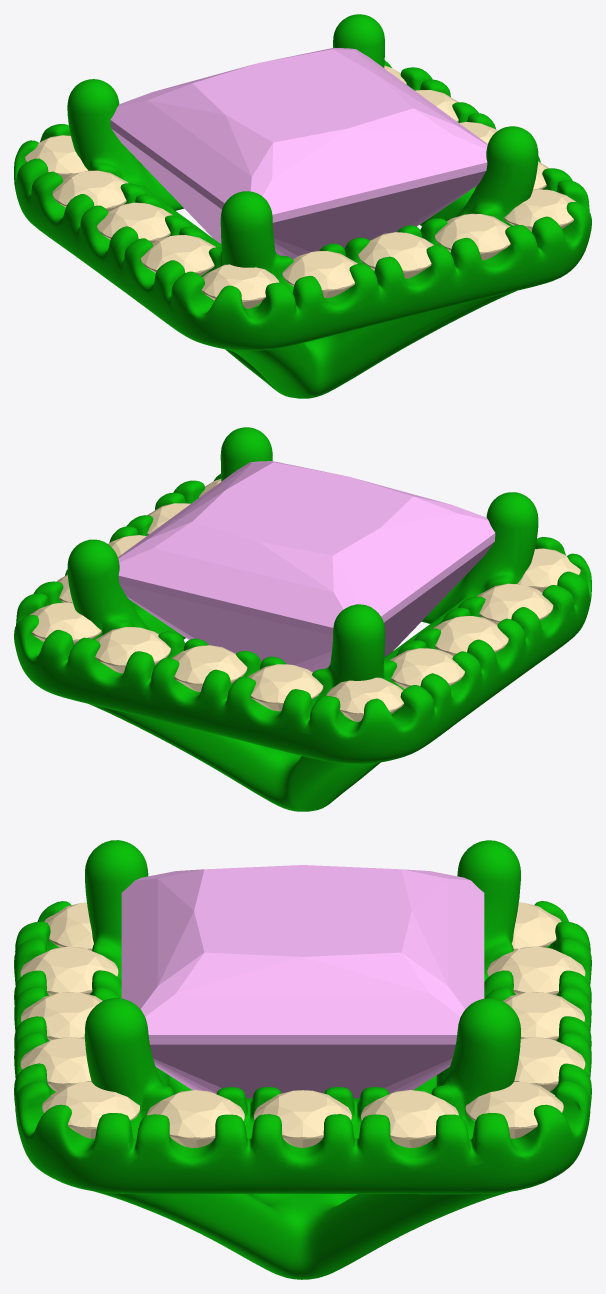
3 views of the same model, one above another, from view 1: azimuth 30°, elevation 25°; view 2: azimuth 150°, elevation 25°; view 3: azimuth 270°, elevation 25° (orthographic). The views are drawn at different scales.
Visible parts, largest first — view 1: Metal01, Diamond_Princess, Diamond_Round.005, Diamond_Round.003, Diamond_Round.004, Diamond_Round.007, Diamond_Round.009, Diamond_Round.006, Diamond_Round.008, Diamond_Round.002, Diamond_Round.010, Diamond_Round.015; view 2: Metal01, Diamond_Princess, Diamond_Round.011, Diamond_Round.013, Diamond_Round.012, Diamond_Round.009, Diamond_Round.007, Diamond_Round.010, Diamond_Round.008, Diamond_Round.014, Diamond_Round.006, Diamond_Round.001; view 3: Metal01, Diamond_Princess, Diamond_Round.001, Diamond_Round.015, Diamond_Round, Diamond_Round.011, Diamond_Round.005, Diamond_Round.014, Diamond_Round.002, Diamond_Round.013, Diamond_Round.003, Diamond_Round.012 (+3 smaller).
Boxes of the visible parts, x1,y1,x2,y2 form: Metal01: [14, 14, 591, 398]; Diamond_Princess: [110, 47, 487, 259]; Diamond_Round.005: [282, 251, 357, 297]; Diamond_Round.003: [435, 213, 510, 260]; Diamond_Round.004: [358, 232, 433, 278]; Diamond_Round.007: [141, 235, 215, 275]; Diamond_Round.009: [52, 170, 128, 211]; Diamond_Round.006: [201, 264, 279, 308]; Diamond_Round.008: [97, 202, 172, 243]; Diamond_Round.002: [504, 189, 575, 231]; Diamond_Round.010: [25, 135, 88, 179]; Diamond_Round.015: [415, 90, 458, 121]; Metal01: [14, 427, 591, 811]; Diamond_Princess: [118, 461, 495, 672]; Diamond_Round.011: [248, 664, 323, 711]; Diamond_Round.013: [95, 627, 170, 673]; Diamond_Round.012: [172, 645, 247, 691]; Diamond_Round.009: [390, 648, 464, 688]; Diamond_Round.007: [477, 583, 553, 624]; Diamond_Round.010: [326, 677, 403, 721]; Diamond_Round.008: [433, 616, 508, 656]; Diamond_Round.014: [30, 602, 101, 644]; Diamond_Round.006: [517, 548, 580, 592]; Diamond_Round.001: [147, 503, 190, 534]; Metal01: [14, 840, 591, 1279]; Diamond_Princess: [121, 865, 484, 1098]; Diamond_Round.001: [147, 1090, 244, 1147]; Diamond_Round.015: [361, 1090, 458, 1147]; Diamond_Round: [254, 1090, 351, 1147]; Diamond_Round.011: [487, 946, 585, 995]; Diamond_Round.005: [20, 946, 118, 995]; Diamond_Round.014: [465, 1081, 563, 1138]; Diamond_Round.002: [42, 1081, 139, 1138]; Diamond_Round.013: [514, 1037, 585, 1091]; Diamond_Round.003: [20, 1037, 91, 1091]; Diamond_Round.012: [503, 992, 584, 1040].
Bounding box in the file's own units: 10.04 × 6.91 × 10.04.
